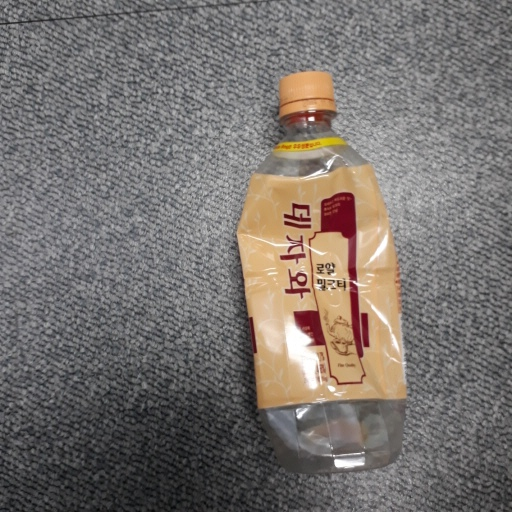Plastic_0: (232, 70, 408, 478)
